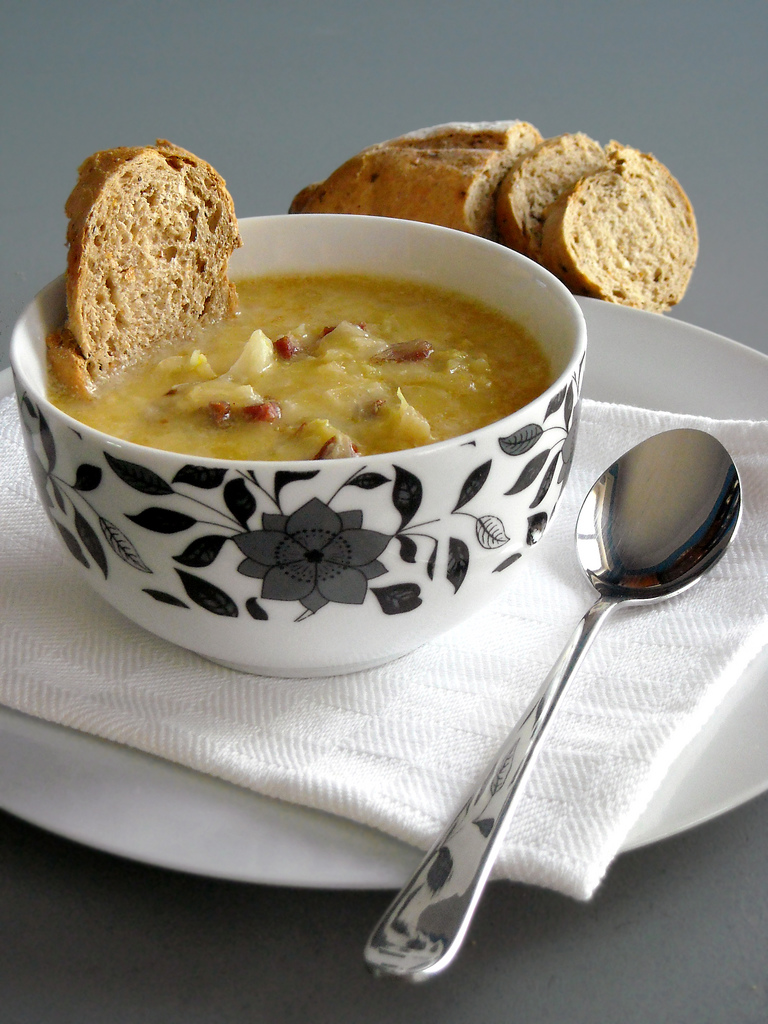slice of bread: (110, 175, 251, 333)
